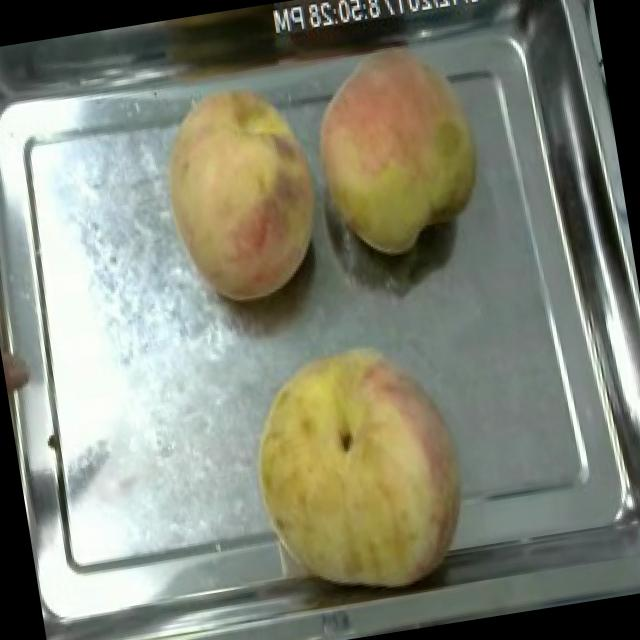Fruit: (226, 323, 484, 612), (143, 58, 342, 320), (288, 30, 502, 272)
